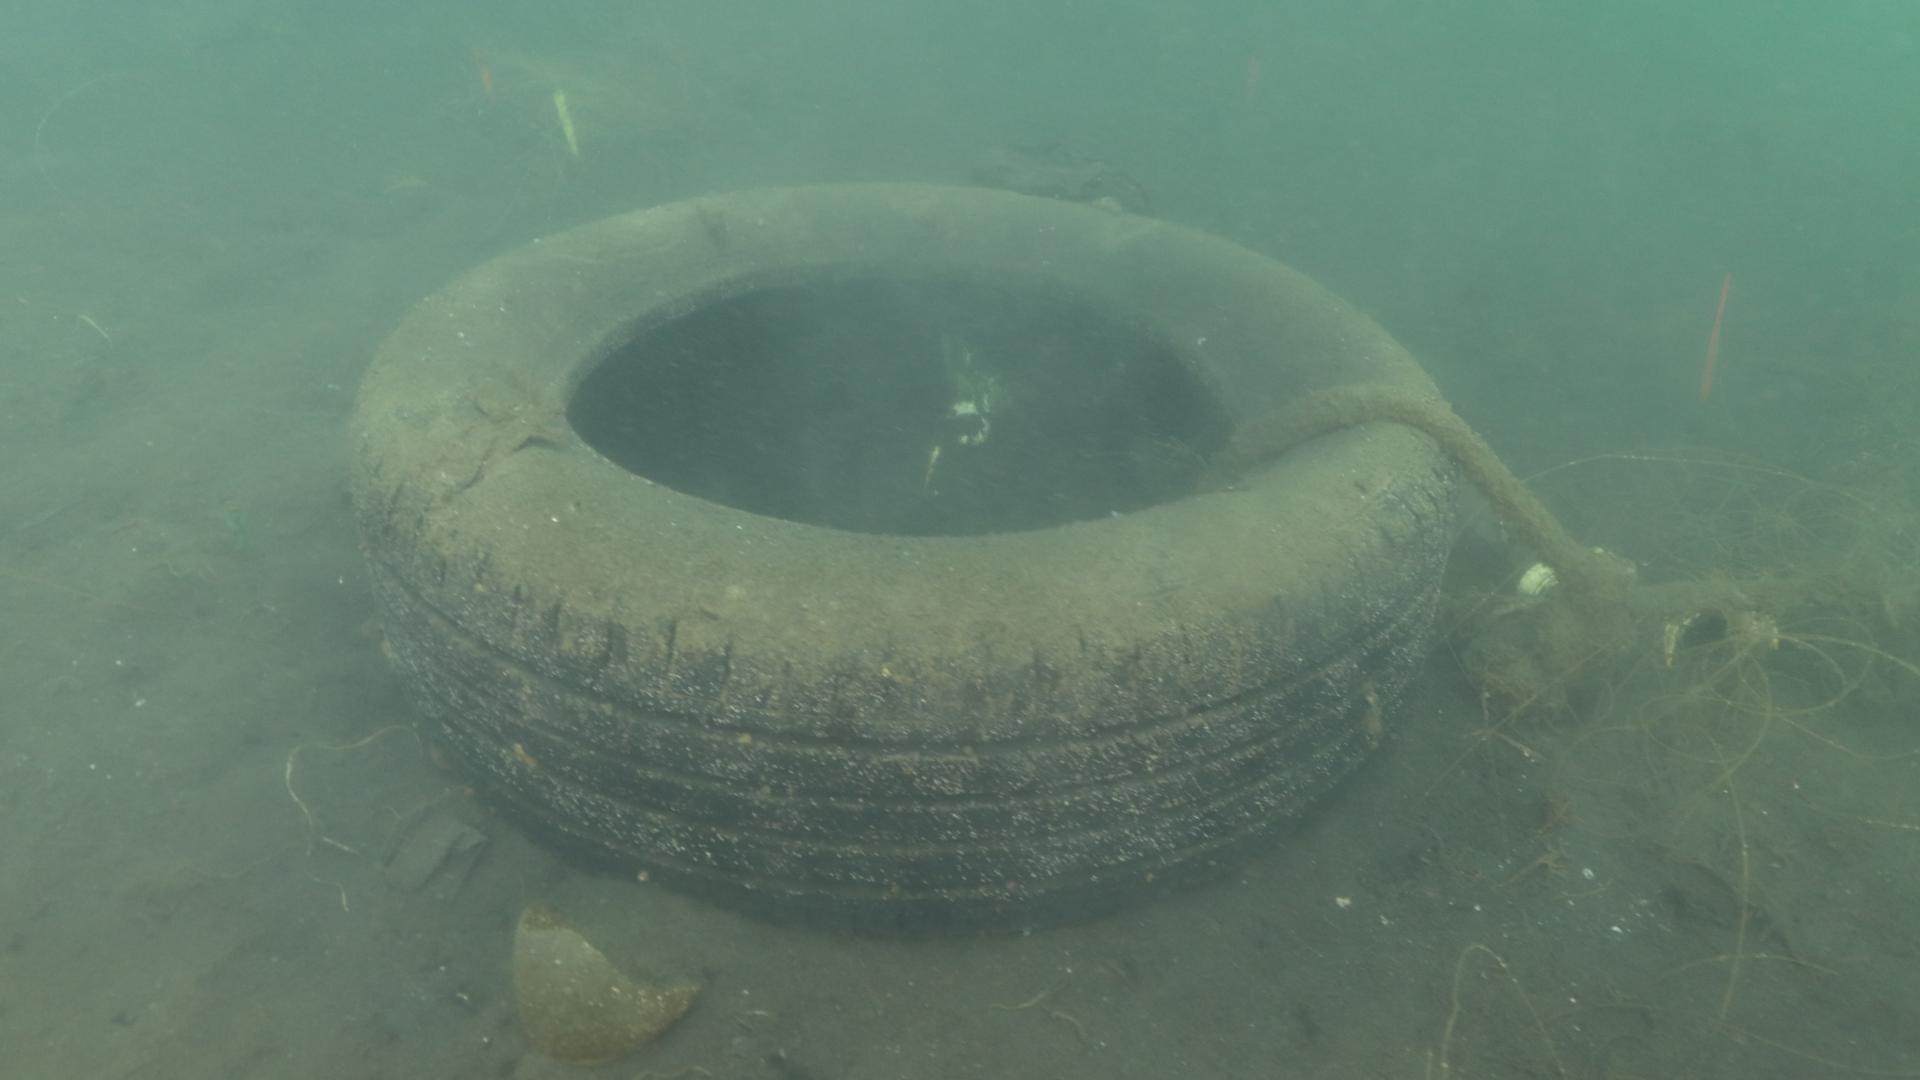rope: (1197, 373, 1920, 615)
tire: (347, 174, 1449, 939)
